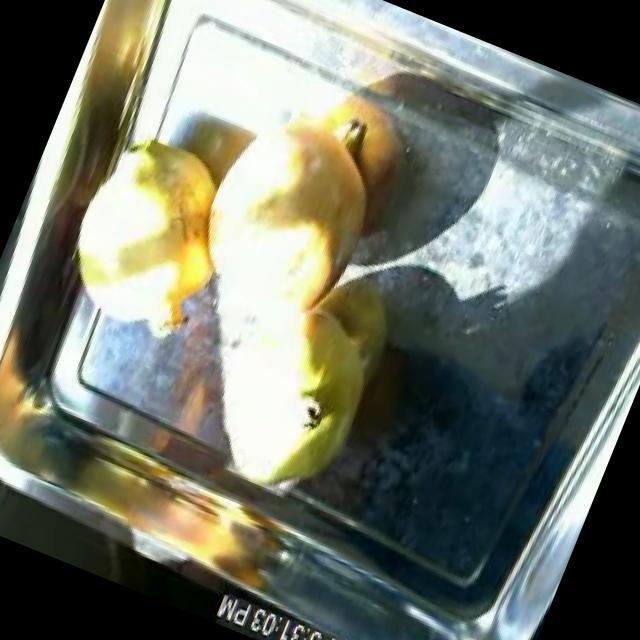fruit: (164, 65, 418, 348), (42, 101, 274, 358), (178, 276, 408, 530)
